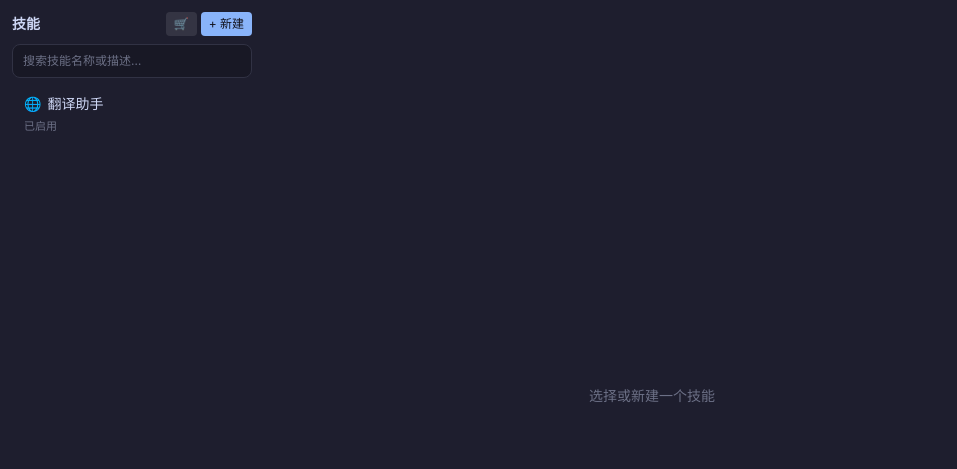
Scenario: 自带文件那三张脸 › 读不到 ⇒ 说不"读不到"，且**不许**同时出现"没有自带文件"（这条是负向判据）
Click the text "翻译助手" at [76, 104], box [48,94,104,114]
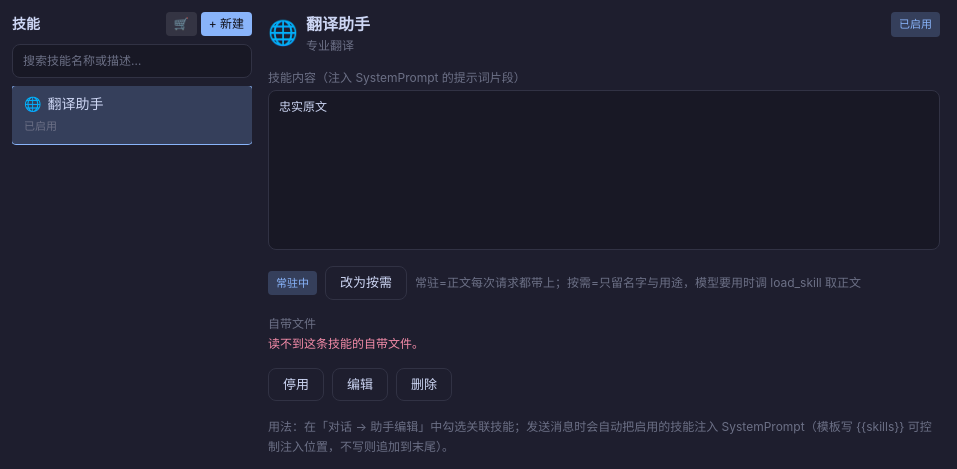
Now the text with test id "skill-files-unread" reads "读不到这条技能的自带文件。", box [268,336,424,350]
